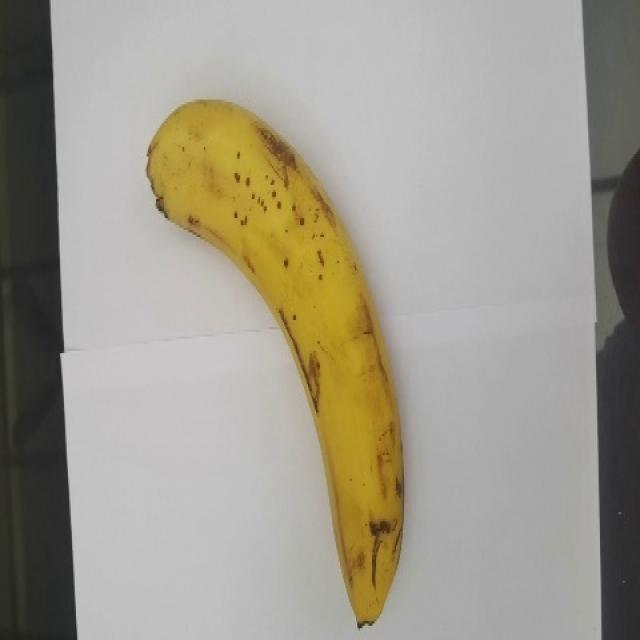Banana: (144, 97, 405, 628)
